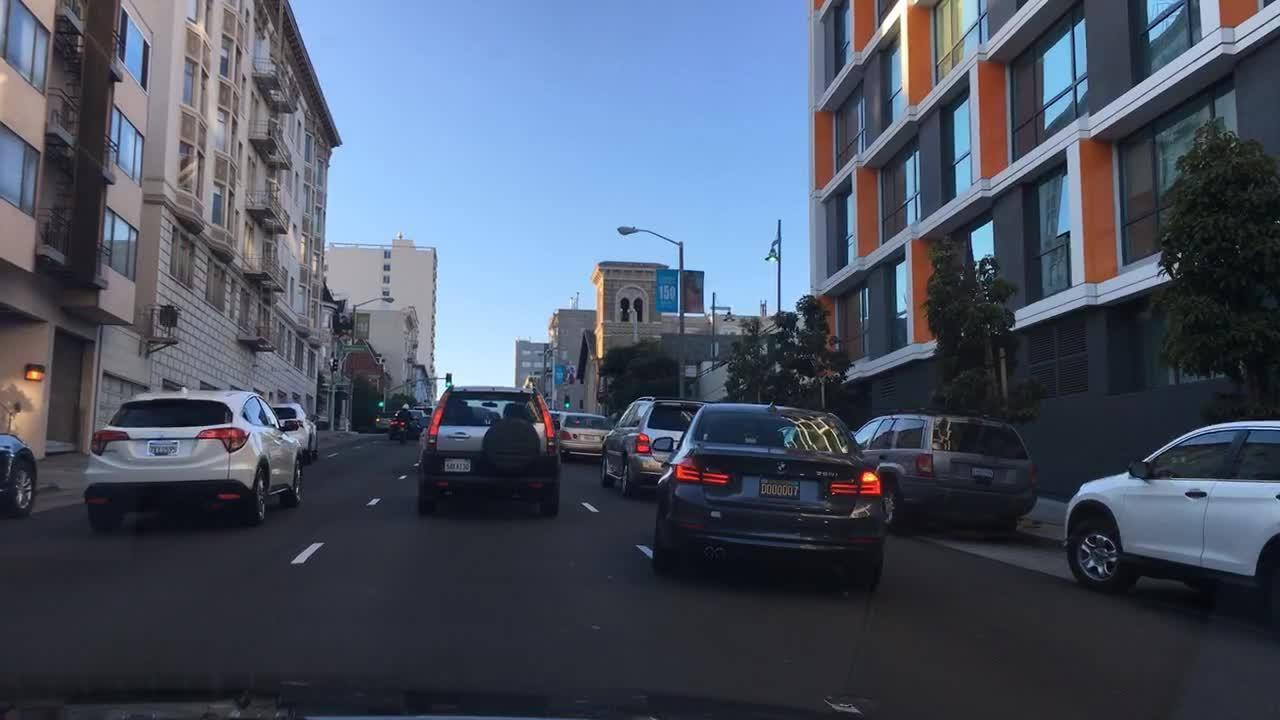bmw: (763, 455, 797, 479)
